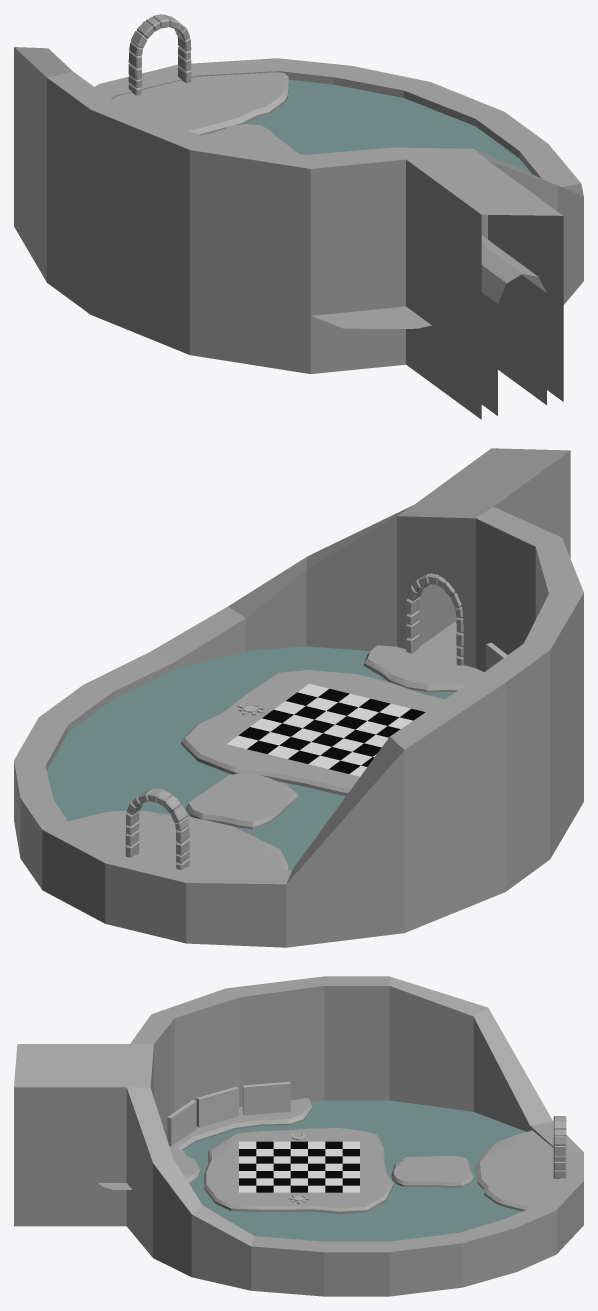
Rendered from WaterPuzzle.fbx.
3 views of the same model, one above another, from view 1: azimuth 30°, elevation 25°; view 2: azimuth 150°, elevation 25°; view 3: azimuth 270°, elevation 25° (orthographic). The views are drawn at different scales.
Visible parts, largest first — view 1: puzzle_b, pPlane5, polySurface5, rocks_lp1, polySurface4, polySurface24; view 2: puzzle_b, pPlane5, pPlane3, polySurface2, polySurface5, polySurface4, polySurface24, rocks_lp1, rocks_lp; view 3: puzzle_b, pPlane5, polySurface2, pPlane3, polySurface5, polySurface4, polySurface24, mural, mural1, mural2, rocks_lp1.
Boxes of the visible parts, x1,y1,x2,y2 form: puzzle_b: (14, 47, 583, 419); pPlane5: (246, 79, 532, 174); polySurface5: (112, 72, 288, 135); rocks_lp1: (128, 14, 191, 95); polySurface4: (312, 306, 431, 328); polySurface24: (202, 124, 297, 153); puzzle_b: (14, 448, 583, 947); pPlane5: (47, 646, 454, 869); pPlane3: (227, 683, 425, 776); polySurface2: (181, 670, 444, 795); polySurface5: (68, 811, 288, 870); polySurface4: (363, 621, 483, 692); polySurface24: (186, 773, 299, 829); rocks_lp1: (125, 788, 189, 869); rocks_lp: (406, 573, 463, 665); puzzle_b: (14, 976, 583, 1296); pPlane5: (183, 1100, 526, 1241); polySurface2: (204, 1128, 393, 1213); pPlane3: (239, 1141, 359, 1192); polySurface5: (475, 1130, 560, 1211); polySurface4: (98, 1098, 311, 1189); polySurface24: (391, 1156, 474, 1187); mural: (242, 1081, 290, 1115); mural1: (196, 1086, 238, 1127); mural2: (167, 1100, 196, 1146); rocks_lp1: (553, 1116, 566, 1178).
Bounding box in the file's own units: 49.6 × 21.25 × 71.59.
